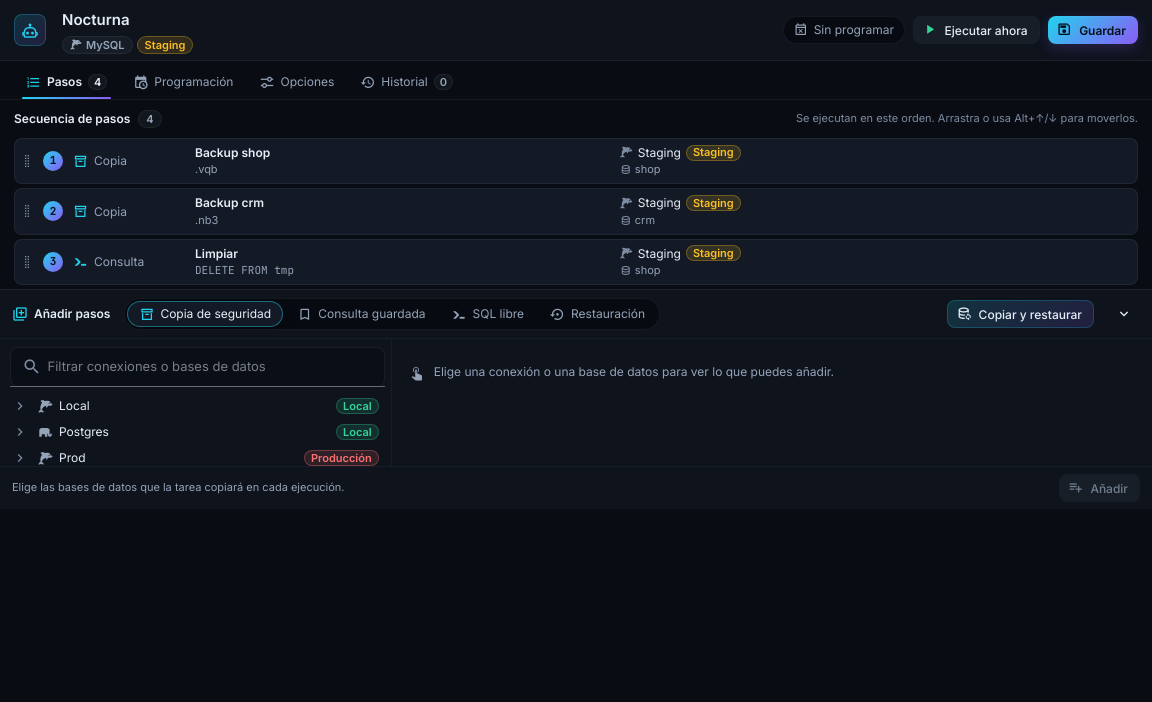
job editor: sequence, browser and settings › shows step problems on the row and opens the first failing step on save
This screenshot has width=1152, height=702.
Click the button with test id "job-save": (1093, 30) [1048,16,1138,44]
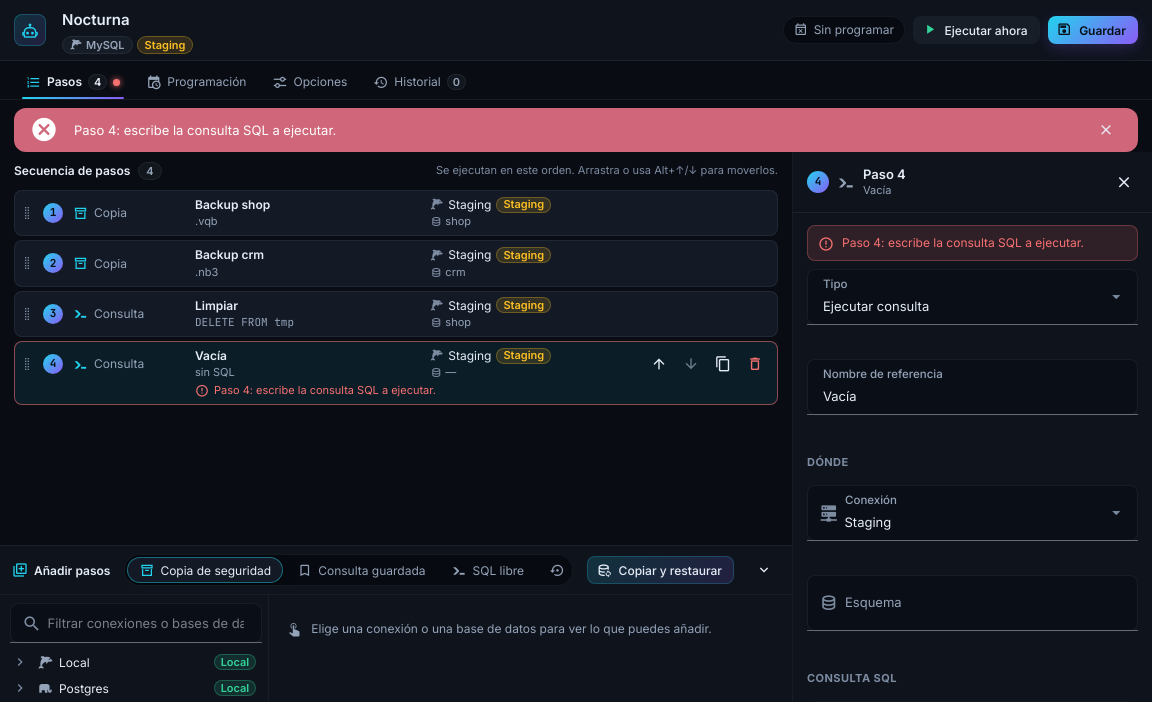
Expected: the message with test id "step-settings-problems" shows "Paso 4", [842,235,1084,250]
Expected: the message with test id "job-errors" shows "Paso 4", [74,122,336,138]
